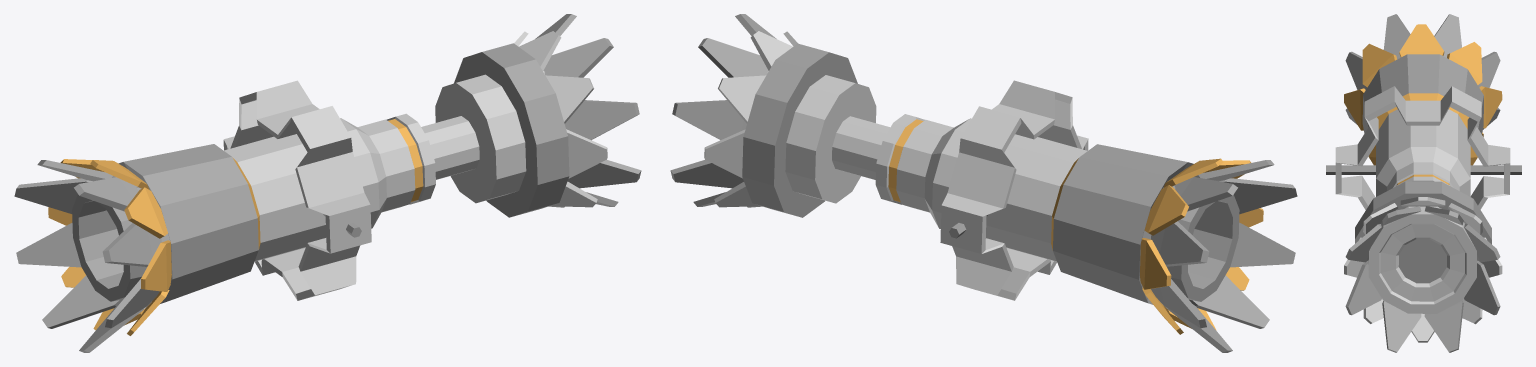
The model's file is sf_laser.glb.
The picture shows the model from 3 angles, left to right: view 1: azimuth 30°, elevation 25°; view 2: azimuth 150°, elevation 25°; view 3: azimuth 270°, elevation 25°; orthographic projection. The views are drawn at different scales.
Visible parts, largest first — view 1: Props_Laser; view 2: Props_Laser; view 3: Props_Laser.
Boxes of the visible parts, x1,y1,x2,y2 form: Props_Laser: (14, 14, 641, 352); Props_Laser: (670, 14, 1297, 352); Props_Laser: (1326, 14, 1521, 352).
Size of the model in its own units: 3.84 by 1.29 by 1.46.
